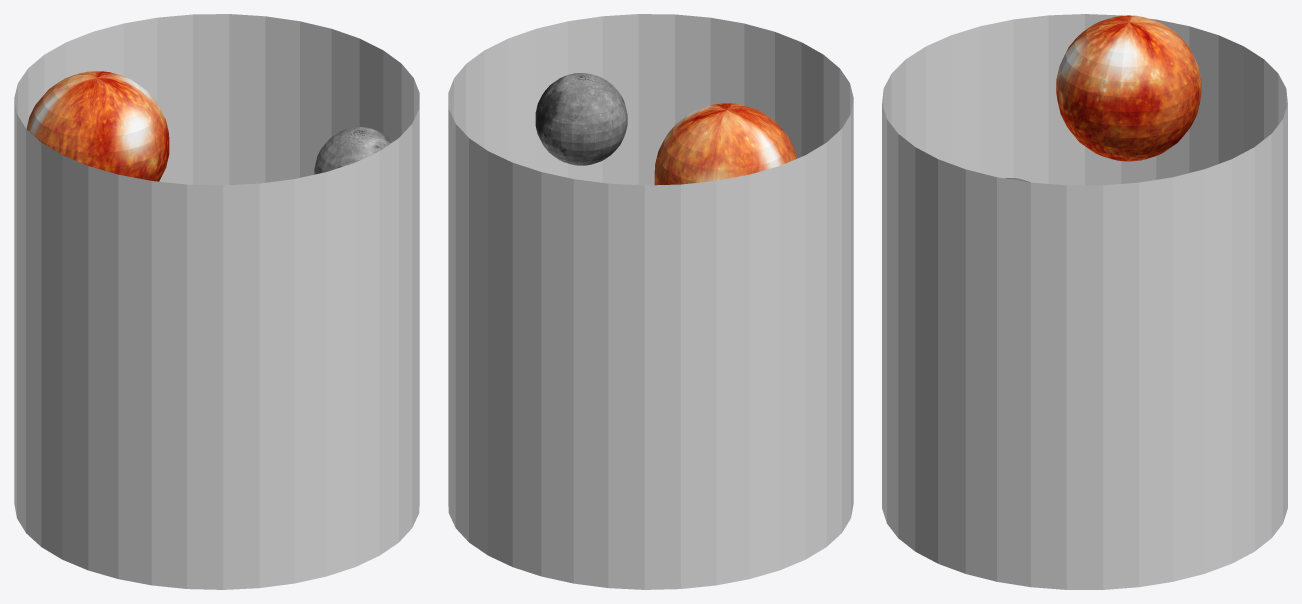
File: sundial.fbx
The picture shows the model from 3 angles, left to right: view 1: azimuth 30°, elevation 25°; view 2: azimuth 150°, elevation 25°; view 3: azimuth 270°, elevation 25°; orthographic projection.
Parts seen in each view (by area): view 1: Light, LightInside, Sun, Moon; view 2: Light, LightInside, Sun, Moon; view 3: Light, LightInside, Sun.
Part boxes in pixels (bbox=[...]): Light: bbox=[14, 14, 419, 589]; LightInside: bbox=[14, 14, 419, 589]; Sun: bbox=[26, 71, 169, 181]; Moon: bbox=[314, 127, 393, 174]; Light: bbox=[448, 14, 853, 589]; LightInside: bbox=[448, 14, 853, 589]; Sun: bbox=[654, 103, 796, 185]; Moon: bbox=[535, 73, 627, 165]; Light: bbox=[882, 14, 1287, 589]; LightInside: bbox=[882, 14, 1287, 589]; Sun: bbox=[1056, 15, 1201, 161].
Size of the model in its own units: 0.6358 by 0.7514 by 0.6364.
4 materials, 4 textured.
